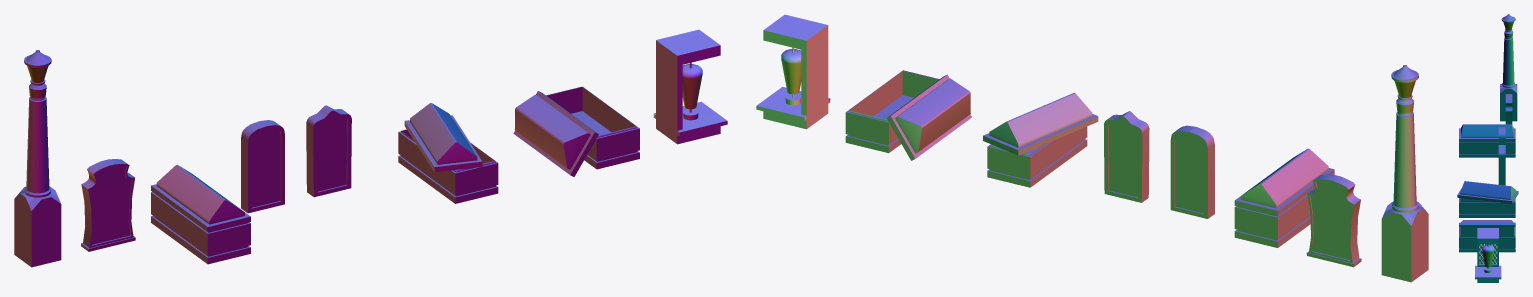
File: allgravescollection.fbx
3 views of the same model, side by side, from view 1: azimuth 30°, elevation 25°; view 2: azimuth 150°, elevation 25°; view 3: azimuth 270°, elevation 25° (orthographic). The views are drawn at different scales.
Parts seen in each view (by area): view 1: pCube18, pCube12, pCube17, pCube13, pCube1, pCube14, pCube8, pCube11, pCube2; view 2: pCube18, pCube17, pCube13, pCube12, pCube1, pCube14, pCube8, pCube11, pCube2; view 3: pCube17, pCube12, pCube18, pCube13, pCube1, pCube11, pCube14, pCube2, pCube8, pCylinder22.
Boxes of the visible parts, <box> form: pCube18: <box>513,86,639,176</box>; pCube12: <box>151,164,250,264</box>; pCube17: <box>398,103,498,203</box>; pCube13: <box>14,50,61,267</box>; pCube1: <box>653,29,727,144</box>; pCube14: <box>81,159,135,251</box>; pCube8: <box>241,120,284,213</box>; pCube11: <box>306,105,351,197</box>; pCube2: <box>682,64,702,109</box>; pCube18: <box>845,70,971,160</box>; pCube17: <box>983,93,1098,187</box>; pCube13: <box>1381,65,1428,282</box>; pCube12: <box>1234,148,1334,247</box>; pCube1: <box>756,14,830,129</box>; pCube14: <box>1306,174,1361,267</box>; pCube8: <box>1170,125,1214,218</box>; pCube11: <box>1104,111,1149,202</box>; pCube2: <box>781,49,801,94</box>; pCube17: <box>1457,181,1518,217</box>; pCube12: <box>1459,124,1515,157</box>; pCube18: <box>1459,220,1515,252</box>; pCube13: <box>1500,14,1517,121</box>; pCube1: <box>1475,228,1501,282</box>; pCube11: <box>1498,145,1505,185</box>; pCube14: <box>1505,94,1512,124</box>; pCube2: <box>1482,245,1494,267</box>; pCube8: <box>1498,127,1505,144</box>; pCylinder22: <box>1479,244,1497,263</box>.
Size of the model in its own units: 18.01 by 5.62 by 2.85.
